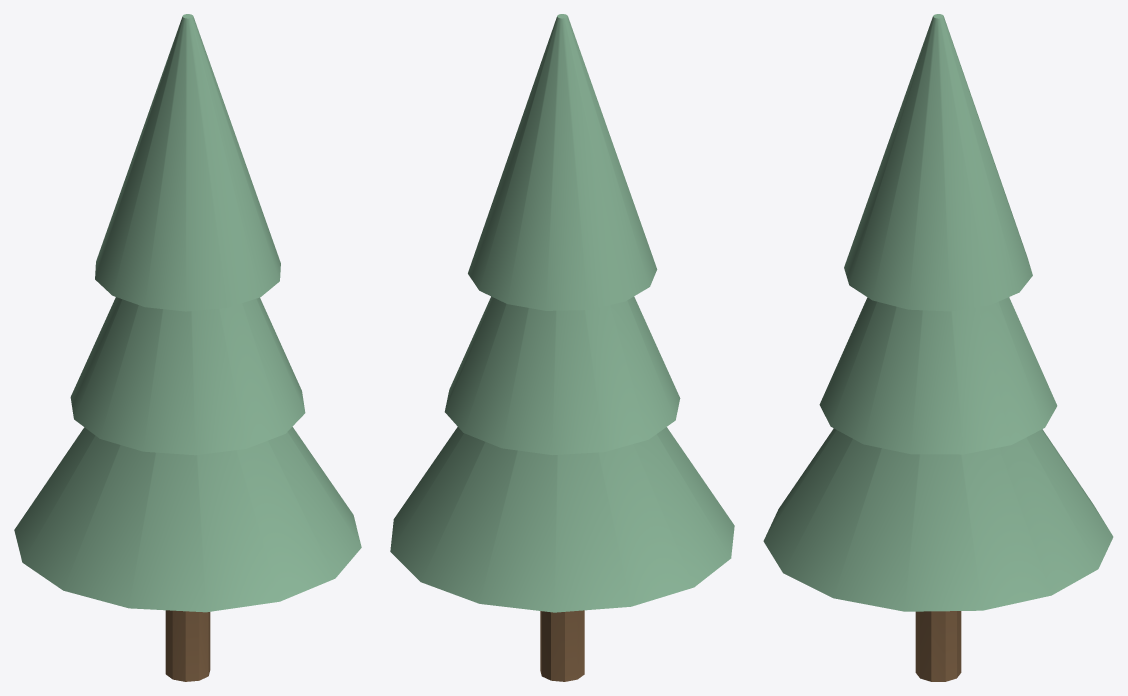
Rendered from pine-02.envelope.glb.
3 views of the same model, side by side, from view 1: azimuth 30°, elevation 25°; view 2: azimuth 150°, elevation 25°; view 3: azimuth 270°, elevation 25° (orthographic).
Parts seen in each view (by area): view 1: pine-02.foliage, pine-02.warm; view 2: pine-02.foliage, pine-02.warm; view 3: pine-02.foliage, pine-02.warm.
Boxes of the visible parts, x1,y1,x2,y2 form: pine-02.foliage: [14, 14, 361, 612]; pine-02.warm: [165, 610, 210, 681]; pine-02.foliage: [390, 14, 734, 612]; pine-02.warm: [540, 610, 584, 681]; pine-02.foliage: [763, 14, 1113, 611]; pine-02.warm: [915, 611, 961, 681].
Bounding box in the file's own units: 0.7571 × 1.6 × 0.7713.
